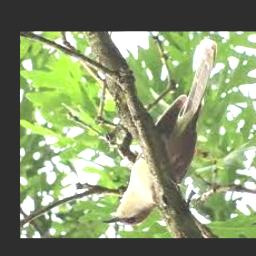Cuckoo: (102, 43, 218, 225)
